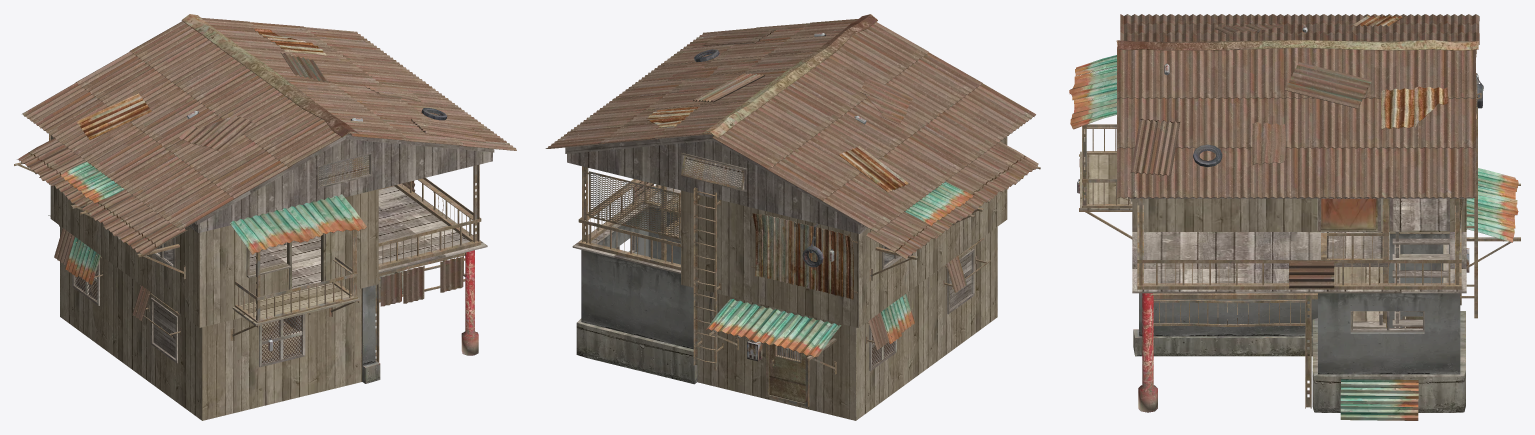
File: old__house__wooden__enterable__rusty.glb
3 views of the same model, side by side, from view 1: azimuth 30°, elevation 25°; view 2: azimuth 150°, elevation 25°; view 3: azimuth 270°, elevation 25° (orthographic). The views are drawn at different scales.
Visible parts, largest first — view 1: Zinc_zinc_0, WoodWall_woodwall_0, Woods_woods_0, Irons_iron_0, Others_others_0, TilesGlass_tilesglass_0; view 2: Zinc_zinc_0, WoodWall_woodwall_0, Others_others_0, Woods_woods_0, Irons_iron_0, TilesGlass_tilesglass_0; view 3: Zinc_zinc_0, Others_others_0, Woods_woods_0, Irons_iron_0, WoodWall_woodwall_0.
Part boxes in pixels (x1,y1,x2,y2): Zinc_zinc_0: (17,17,516,321); WoodWall_woodwall_0: (50,135,378,420); Woods_woods_0: (21,133,494,367); Irons_iron_0: (14,162,481,362); Others_others_0: (181,14,478,383); TilesGlass_tilesglass_0: (75,154,369,363); Zinc_zinc_0: (545,19,1038,357); WoodWall_woodwall_0: (681,136,1007,420); Others_others_0: (576,14,877,384); Woods_woods_0: (565,134,974,371); Irons_iron_0: (578,166,1040,406); TilesGlass_tilesglass_0: (585,155,897,366); Zinc_zinc_0: (1069,14,1518,420); Others_others_0: (1077,26,1483,412); Woods_woods_0: (1080,151,1471,332); Irons_iron_0: (1079,73,1520,408); WoodWall_woodwall_0: (1132,198,1466,327).
Size of the model in its own units: 11.63 by 8.2 by 11.32.
Materials: 6 (6 with a texture image).
